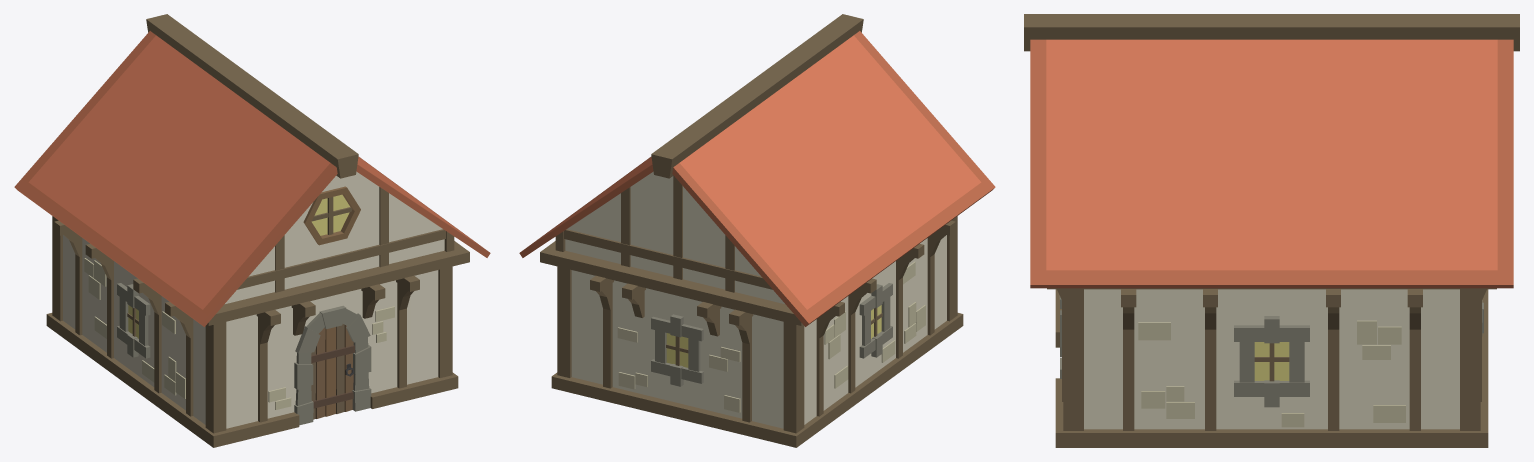
Rendered from House_1.fbx.
3 views of the same model, side by side, from view 1: azimuth 30°, elevation 25°; view 2: azimuth 150°, elevation 25°; view 3: azimuth 270°, elevation 25° (orthographic). The views are drawn at different scales.
Visible parts, largest first — view 1: House_1; view 2: House_1; view 3: House_1.
Boxes of the visible parts, left/top/right/bottom form: House_1: left=14, top=14, right=490, bottom=447; House_1: left=519, top=14, right=995, bottom=447; House_1: left=1024, top=14, right=1519, bottom=447.
Size of the model in its own units: 108 by 96.33 by 124.
Materials: 1 (1 with a texture image).
